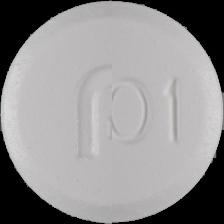49884-401: (0, 0, 224, 224)
